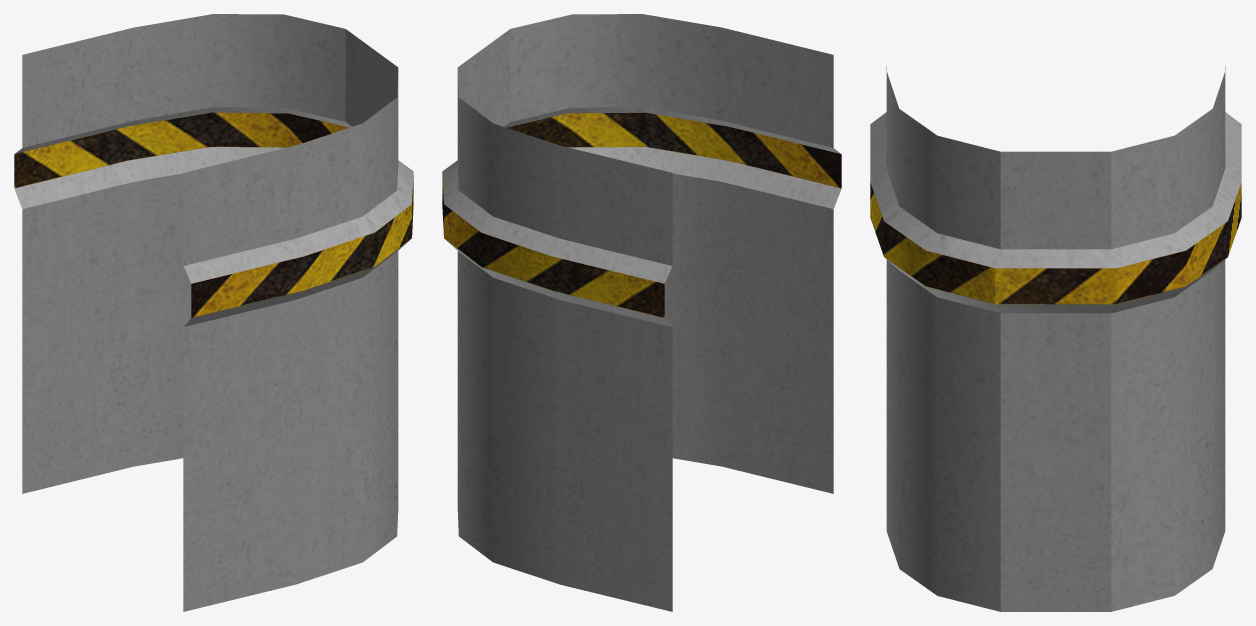
File: Wall_2m_Roll180_01.FBX
3 views of the same model, side by side, from view 1: azimuth 30°, elevation 25°; view 2: azimuth 150°, elevation 25°; view 3: azimuth 270°, elevation 25° (orthographic). The views are drawn at different scales.
Visible parts, largest first — view 1: Wall_2m_Roll180_01_mesh; view 2: Wall_2m_Roll180_01_mesh; view 3: Wall_2m_Roll180_01_mesh.
Part boxes in pixels (x1,y1,x2,y2): Wall_2m_Roll180_01_mesh: (14,14,413,611); Wall_2m_Roll180_01_mesh: (442,14,841,611); Wall_2m_Roll180_01_mesh: (870,66,1241,611).
Bounding box in the file's own units: 202 × 300 × 219.
2 materials, 2 textured.
